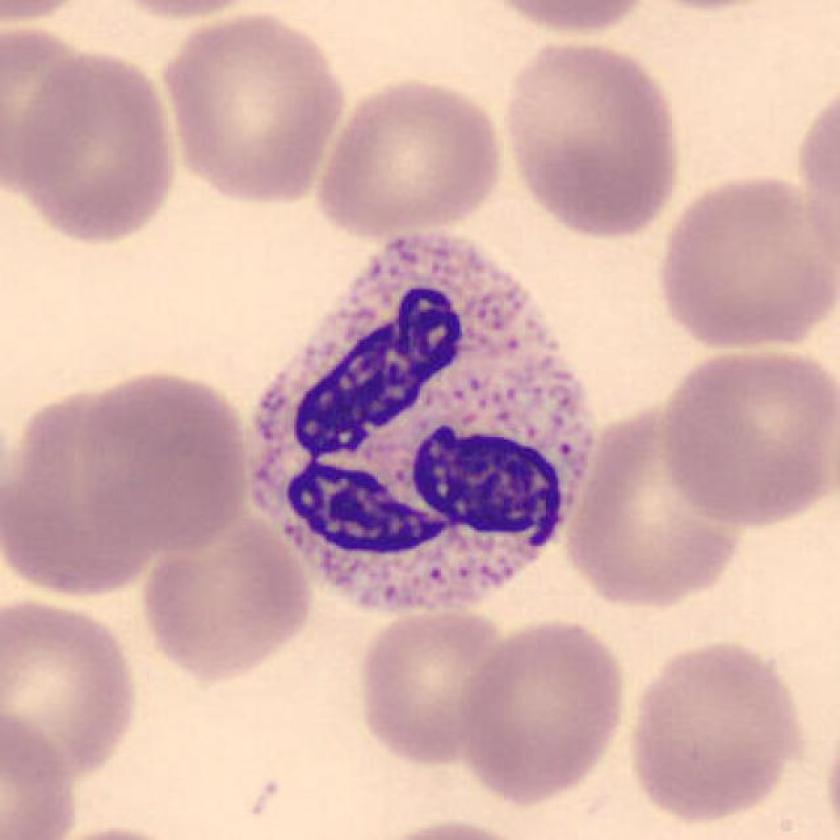neutrophil: (249, 239, 597, 617)
